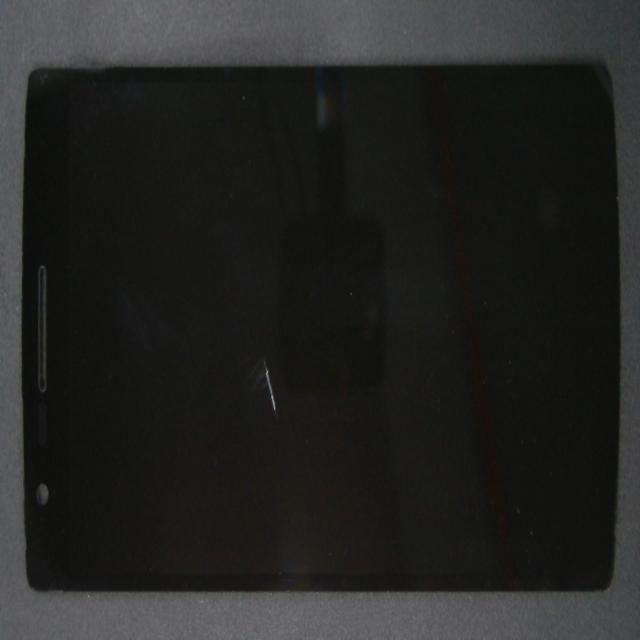scratch: (172, 249, 428, 565)
